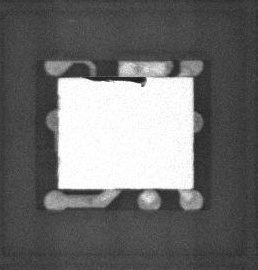DIE_BROKEN: (85, 74, 150, 87)
